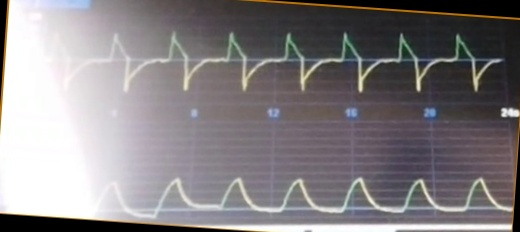Normal Flow: (41, 24, 503, 100)
Normal Volume: (74, 154, 511, 219)
